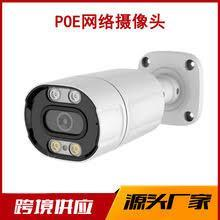tutu: (17, 59, 172, 165)
